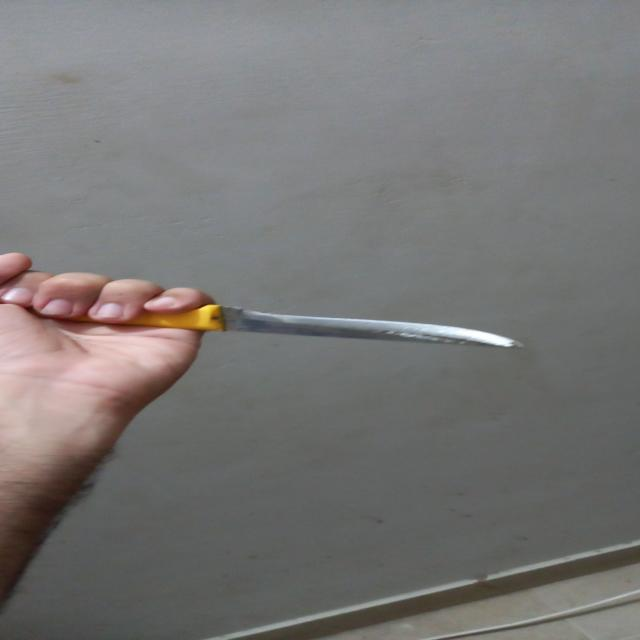Knife: (6, 247, 536, 368)
